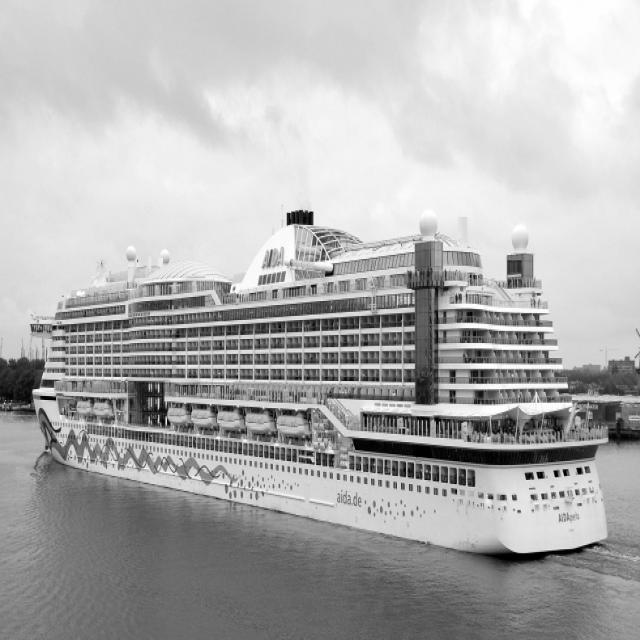cruises: (32, 206, 622, 569)
